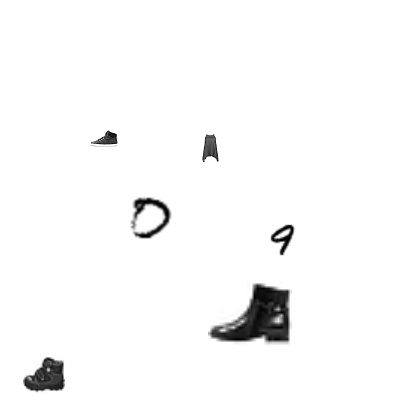0: (121, 186, 177, 242)
9: (262, 216, 304, 258)
Ankle_boot: (208, 269, 292, 353), (23, 353, 65, 395)
Sneaker: (90, 124, 118, 152)
T-shirt/top: (196, 134, 224, 162)
